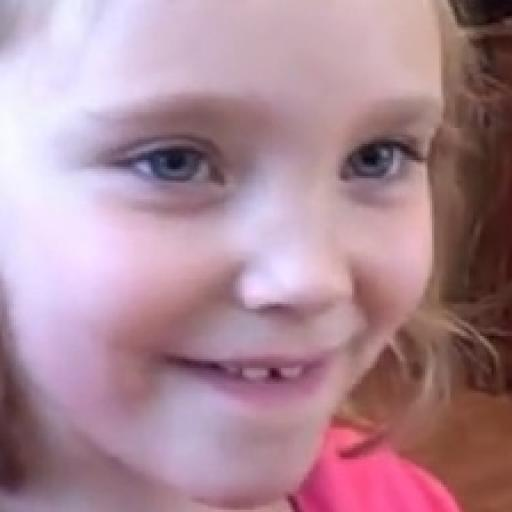Autism: (34, 18, 512, 512)
